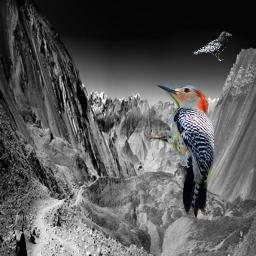Crow: (193, 31, 232, 61)
Woodpecker: (146, 85, 214, 218)
